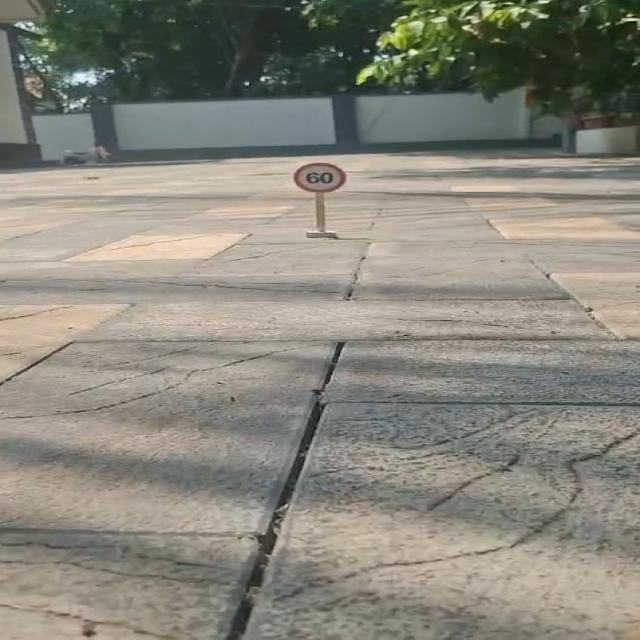Speed60: (285, 157, 359, 201)
